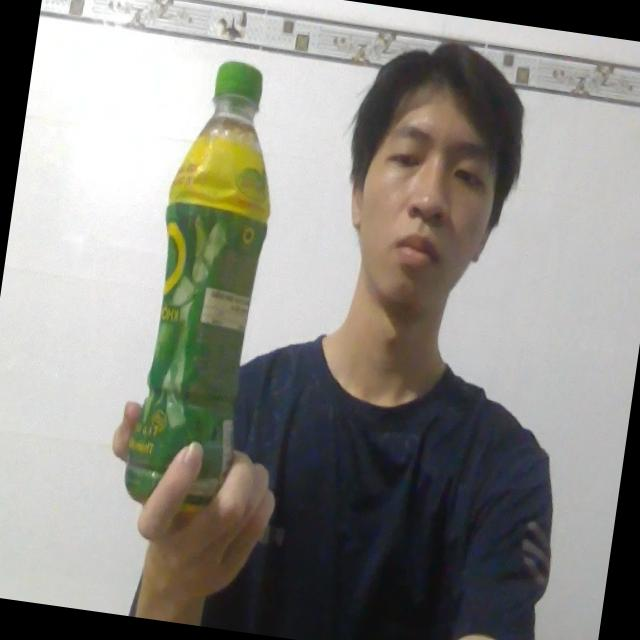tra xanh khong do: (91, 47, 309, 523)
